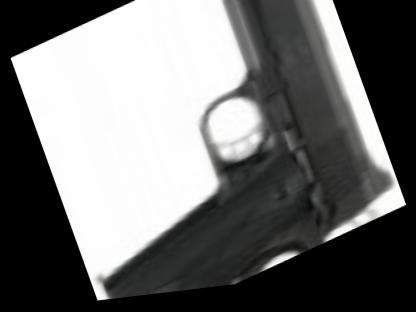pistol: (22, 0, 402, 309)
